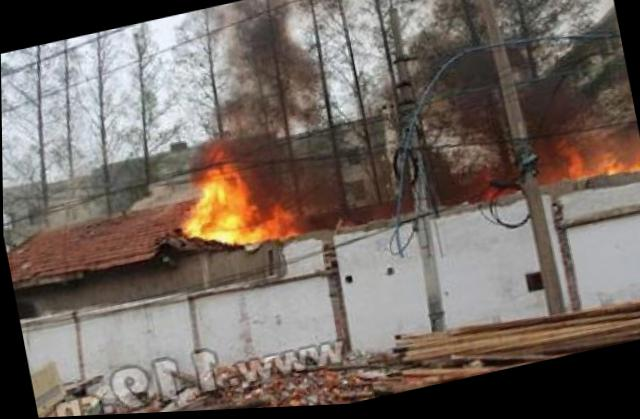fire: (563, 137, 639, 192), (204, 164, 259, 232), (211, 209, 297, 248), (181, 196, 216, 242)
